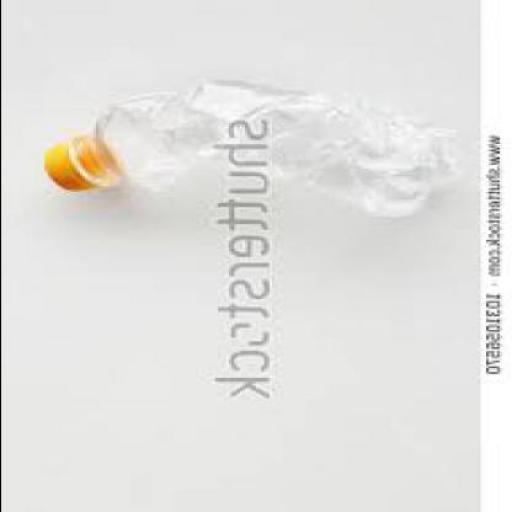plastic: (40, 82, 446, 216), (40, 136, 100, 188)
